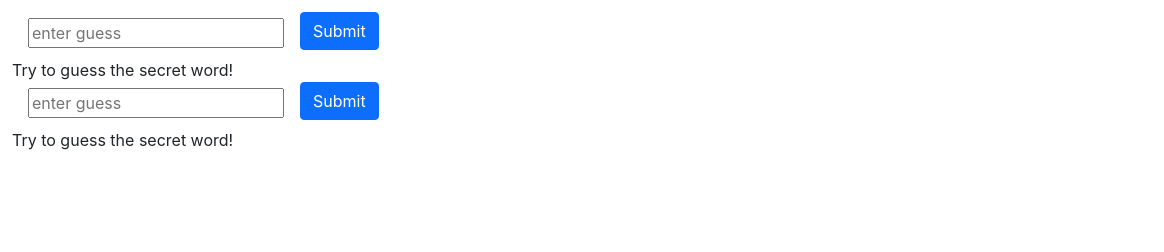
Test: Test › guess is incorrect › guessed words shows right number of rows
Type "agile" into the 2nd field with test id "component-input-box". click: (156, 103)
box: x1=28 y1=88 x2=284 y2=118
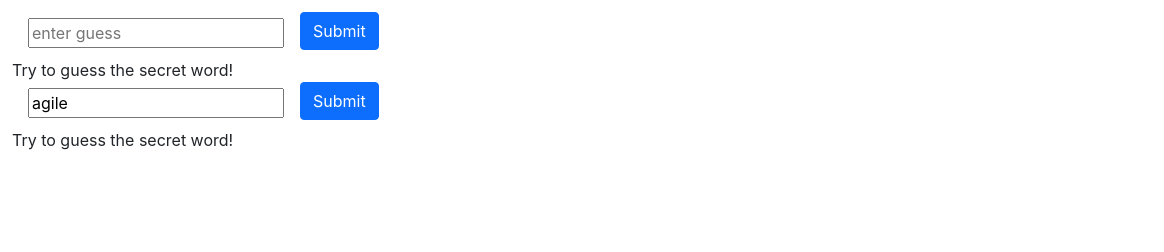
Click the 2nd button with test id "component-submit-button". click: click(339, 101)
box: x1=300 y1=82 x2=379 y2=120
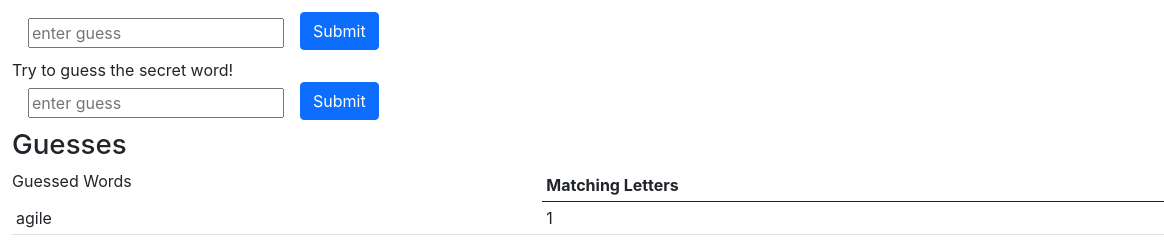
Result: the number of rows with test id "component-guessed-word" is 1 at x1=12 y1=202 x2=1163 y2=235
